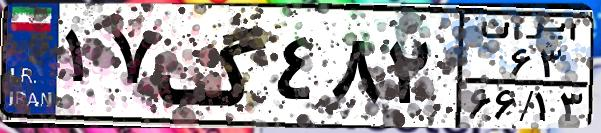1: (57, 26, 110, 100), (535, 70, 560, 125)
2: (385, 28, 445, 110)
3: (560, 70, 590, 125), (537, 27, 568, 80)
4: (270, 28, 330, 110)
6: (508, 27, 537, 80), (470, 70, 495, 125), (495, 70, 520, 125)
7: (110, 28, 156, 98)
8: (330, 28, 385, 110)
گ: (156, 12, 270, 120)
